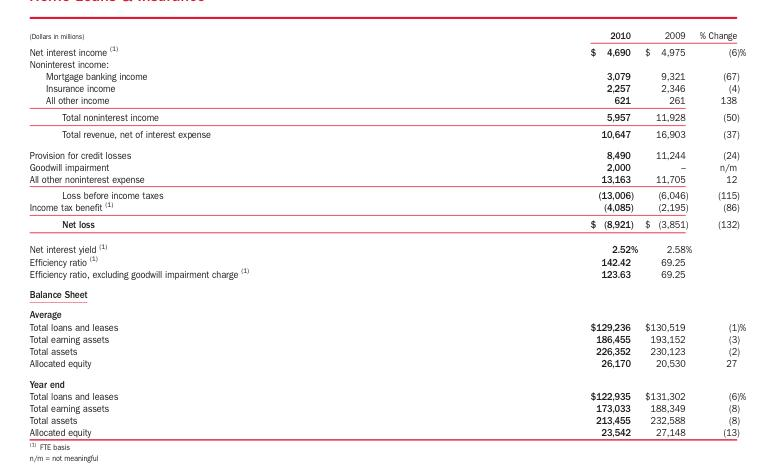table: (28, 29, 745, 437)
table column: (28, 29, 418, 437), (418, 29, 640, 437), (640, 29, 694, 437), (694, 29, 745, 437)
table column header: (28, 29, 745, 42)
table projected row header: (28, 283, 745, 303), (28, 303, 745, 320), (28, 372, 745, 389), (28, 57, 745, 69)
table row: (28, 215, 745, 235), (28, 283, 745, 303), (28, 235, 745, 254), (28, 125, 745, 143), (28, 108, 745, 125), (28, 143, 745, 160), (28, 266, 745, 283), (28, 303, 745, 320), (28, 372, 745, 389), (28, 356, 745, 372), (28, 42, 745, 57), (28, 93, 745, 108), (28, 200, 745, 215), (28, 172, 745, 186), (28, 186, 745, 200), (28, 29, 745, 42), (28, 57, 745, 69), (28, 69, 745, 81), (28, 81, 745, 93), (28, 160, 745, 172), (28, 254, 745, 266), (28, 320, 745, 332), (28, 332, 745, 344), (28, 344, 745, 356), (28, 389, 745, 401), (28, 401, 745, 413), (28, 413, 745, 425), (28, 425, 745, 437)
